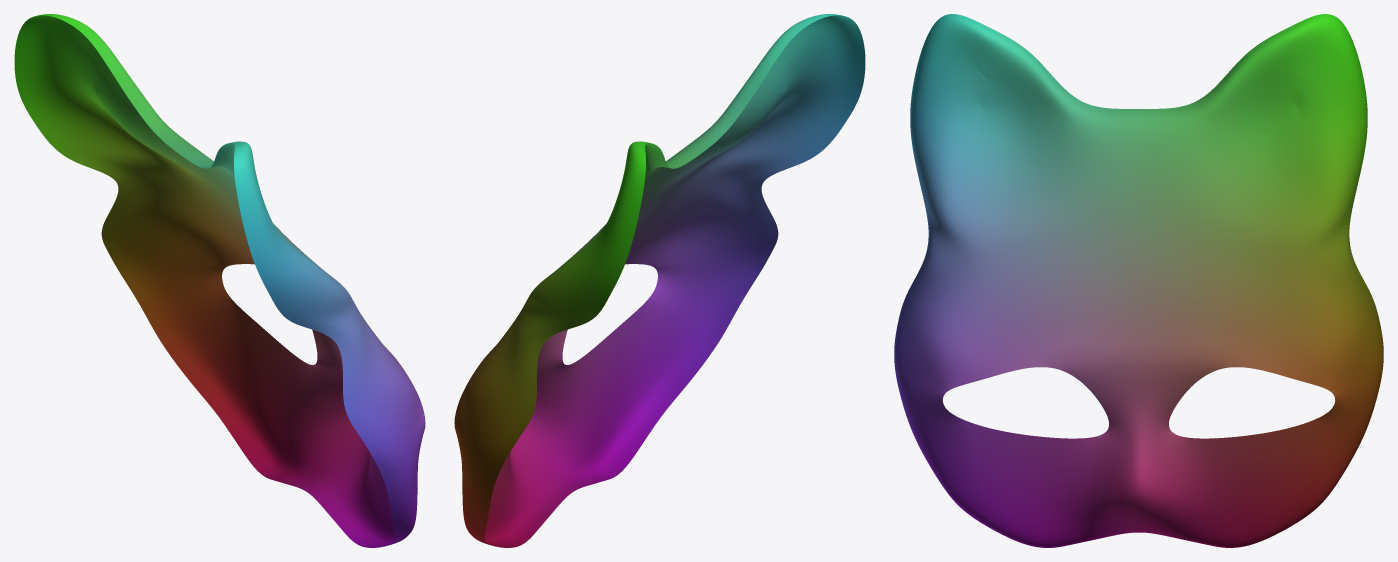
The model's file is cat_mask.obj.
3 views of the same model, side by side, from view 1: azimuth 30°, elevation 25°; view 2: azimuth 150°, elevation 25°; view 3: azimuth 270°, elevation 25° (orthographic). The views are drawn at different scales.
Bounding box in the file's own units: 0.5356 × 0.9524 × 0.9411.
